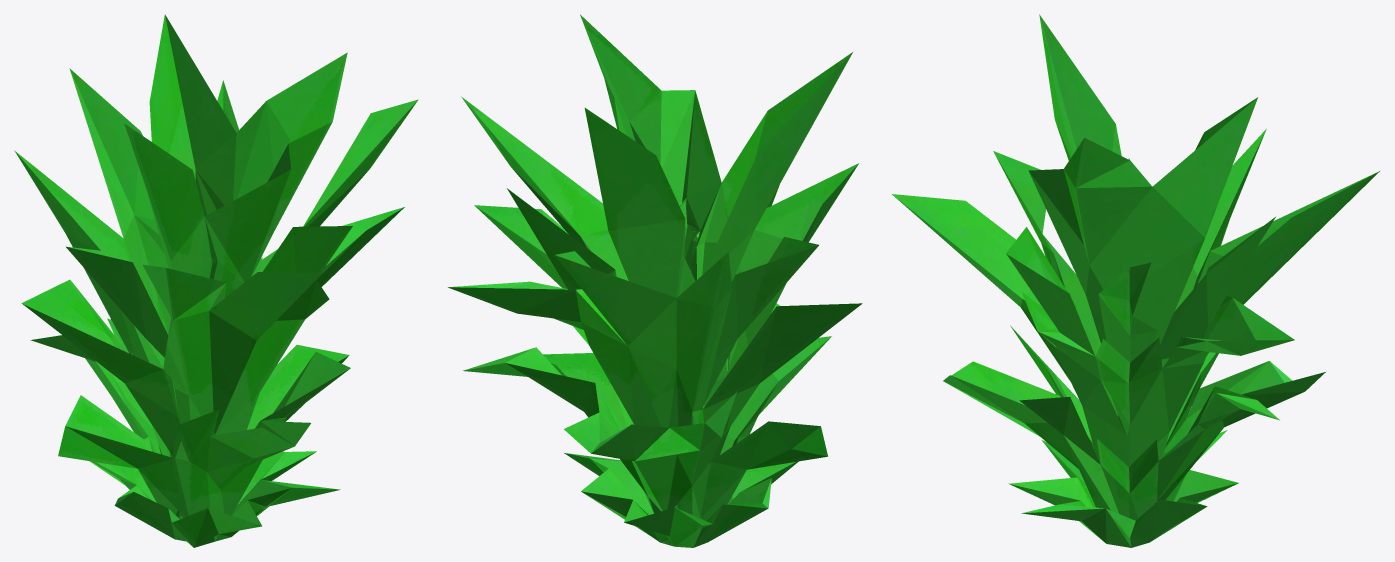
File: bush.glb
3 renders of one model, left to right at view 1: azimuth 30°, elevation 25°; view 2: azimuth 150°, elevation 25°; view 3: azimuth 270°, elevation 25°, orthographic. The views are drawn at different scales.
Bounding box in the file's own units: 1.62 × 1.86 × 1.77.
Materials: 1 (1 with a texture image).
